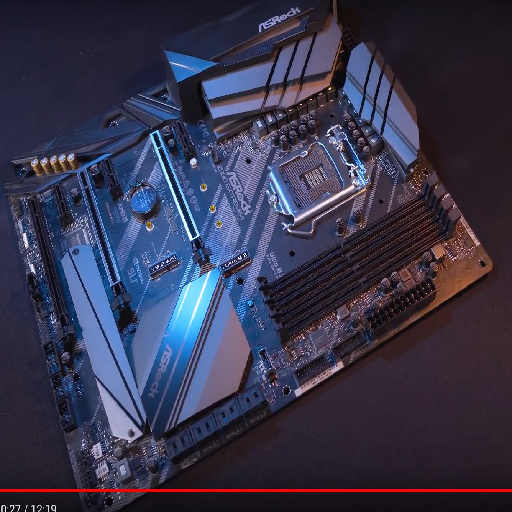CPU: (264, 122, 373, 234)
GPU: (148, 128, 213, 265), (75, 167, 133, 312)
MOTHERBOARD: (8, 20, 493, 512)
RAM: (255, 171, 462, 344)
SSD: (219, 250, 253, 277), (147, 253, 181, 279)
